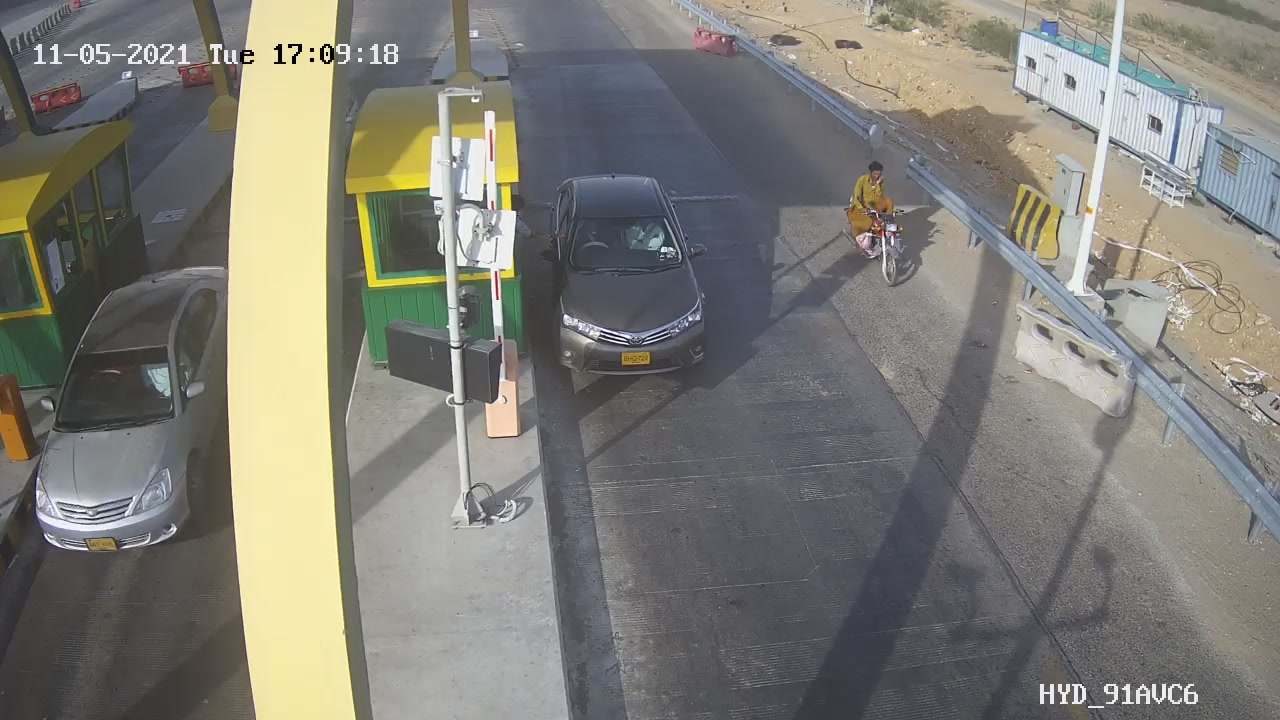F1: (514, 149, 729, 405)
